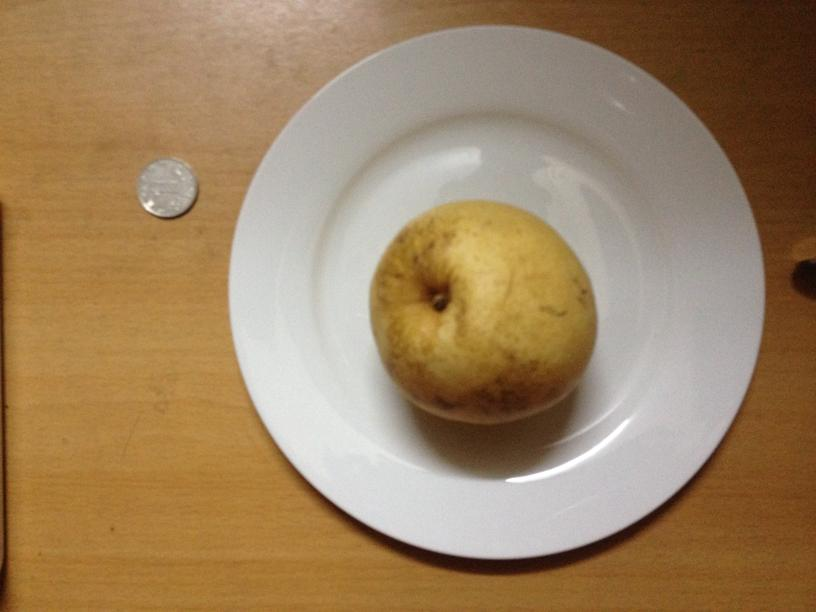coin: (139, 157, 198, 219)
pear: (362, 201, 597, 426)
